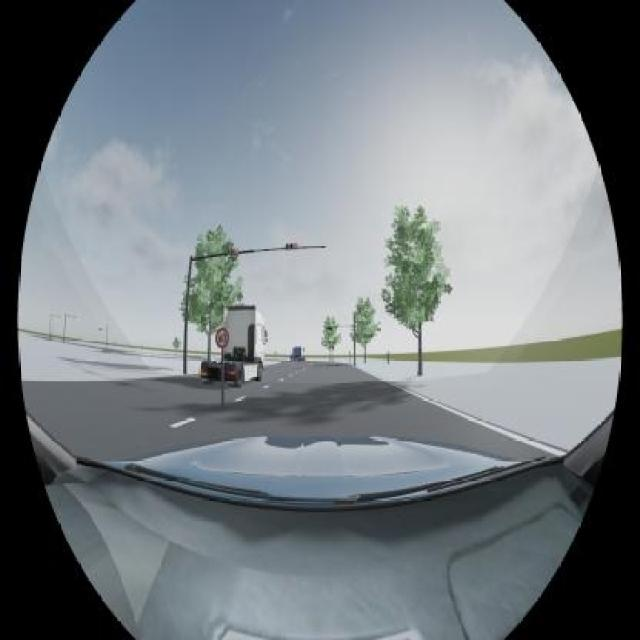forb_speed_over_60: (215, 327, 229, 348)
